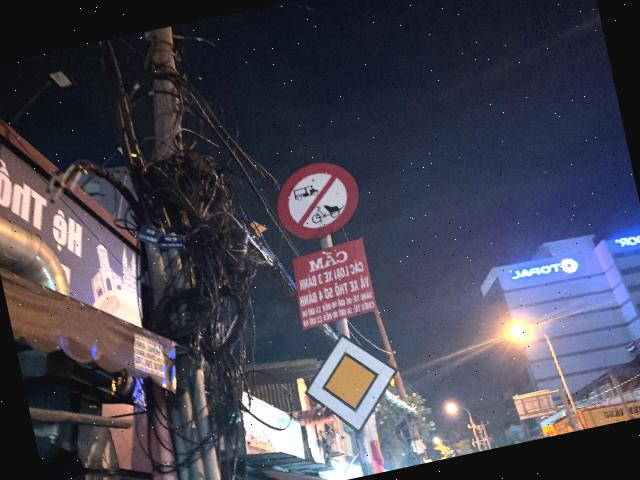bat-dau-duong-uu-tien: (292, 323, 408, 443)
cam-xe-3-banh-xe-tho-so-4-banh: (269, 156, 366, 244)
